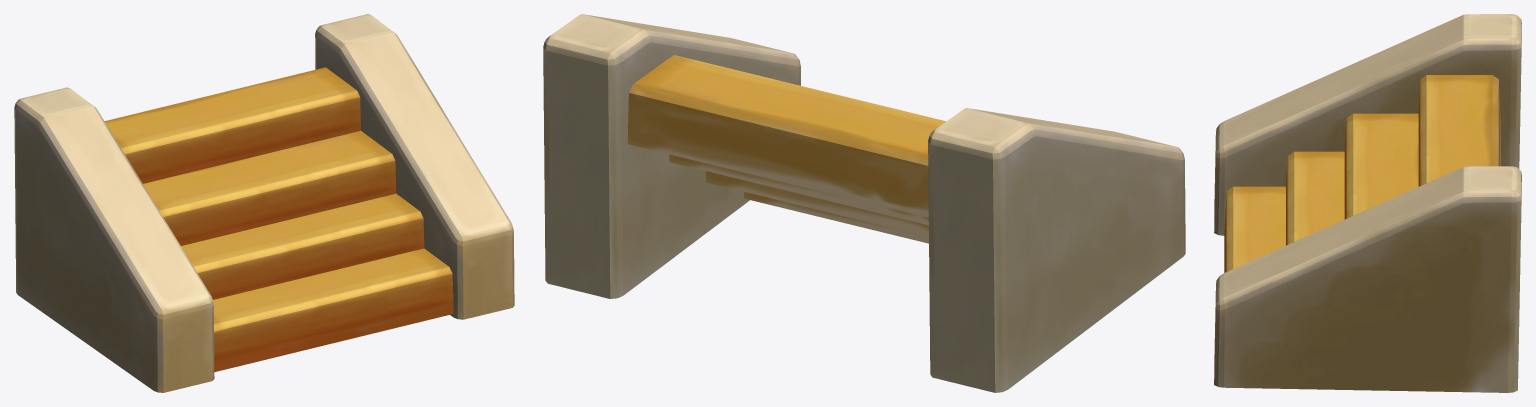
File: steps.fbx
3 renders of one model, left to right at view 1: azimuth 30°, elevation 25°; view 2: azimuth 150°, elevation 25°; view 3: azimuth 270°, elevation 25°, orthographic. The views are drawn at different scales.
Parts seen in each view (by area): view 1: aiSkyDomeLight2; view 2: aiSkyDomeLight2; view 3: aiSkyDomeLight2.
Boxes of the visible parts, x1=… form: aiSkyDomeLight2: x1=14, y1=14, x2=514, y2=392; aiSkyDomeLight2: x1=543, y1=14, x2=1185, y2=392; aiSkyDomeLight2: x1=1214, y1=14, x2=1521, y2=392.
Size of the model in its own units: 4.13 by 2.1 by 2.94.
